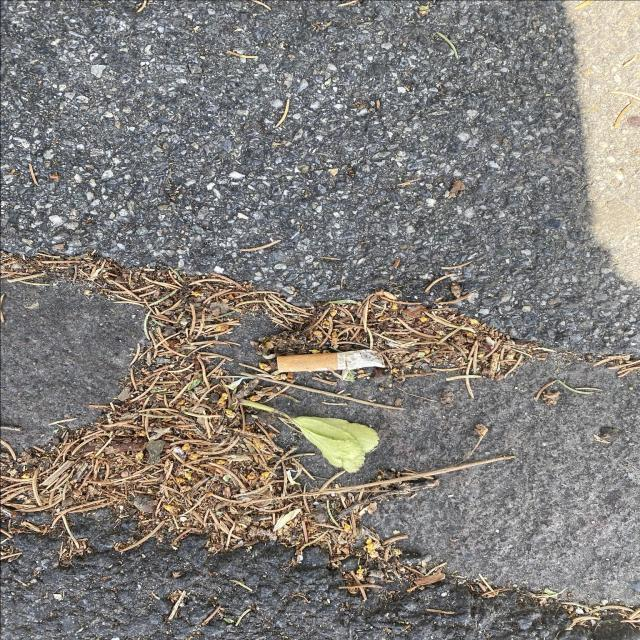other waste: (276, 348, 384, 372)
